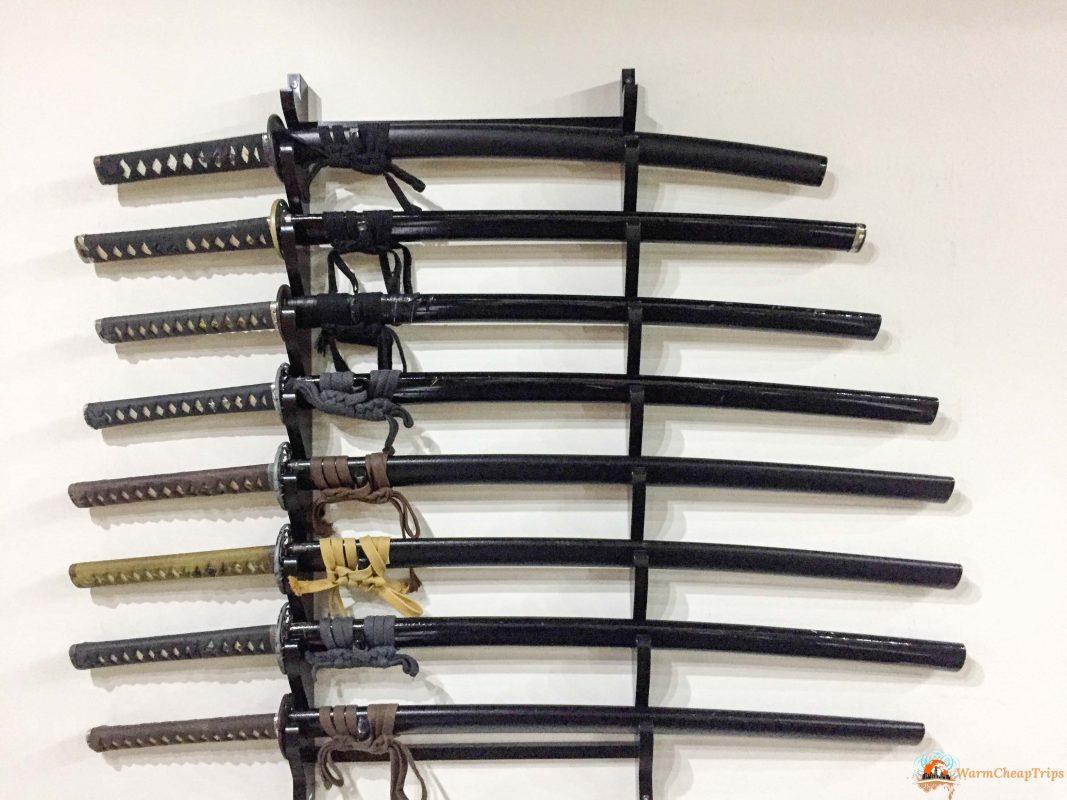espada: (54, 602, 985, 687), (66, 440, 967, 518), (75, 102, 837, 191), (52, 526, 989, 598), (55, 690, 962, 764), (75, 267, 893, 348), (73, 357, 948, 431), (44, 194, 877, 267)
